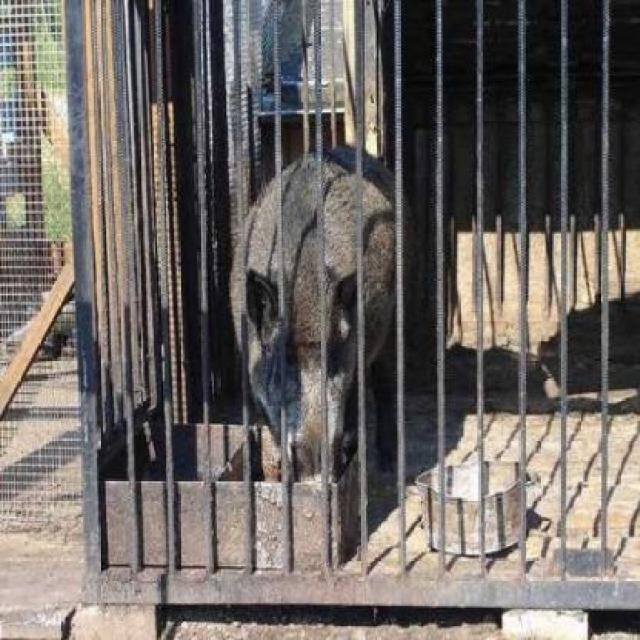pig: (218, 114, 421, 485)
